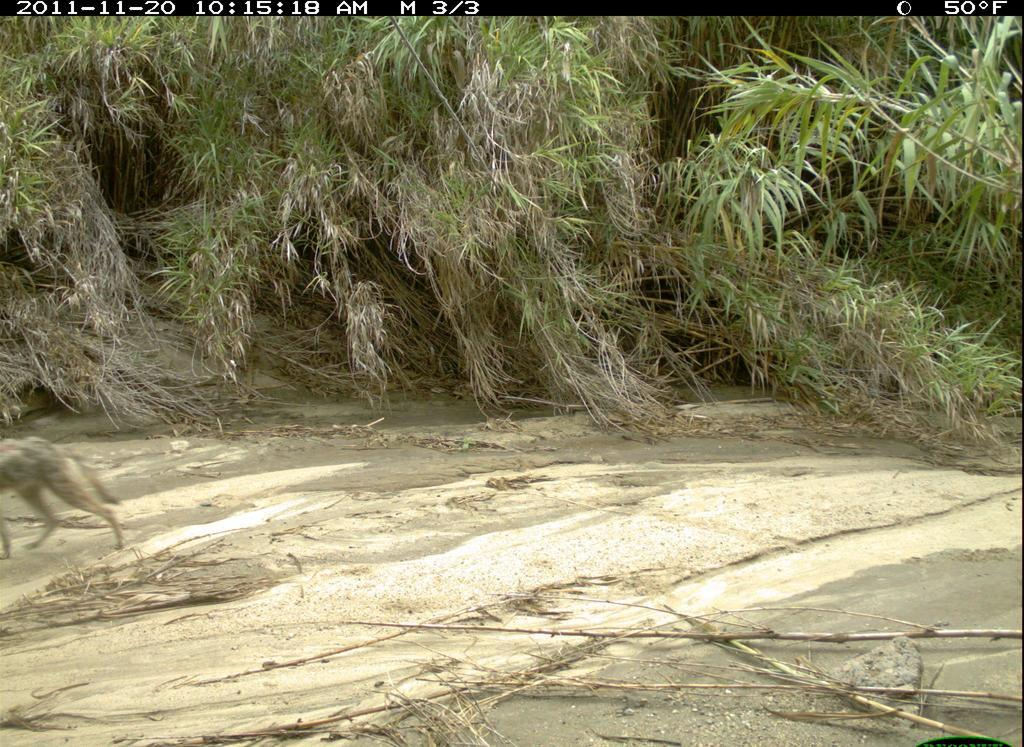coyote: (1, 424, 152, 588)
